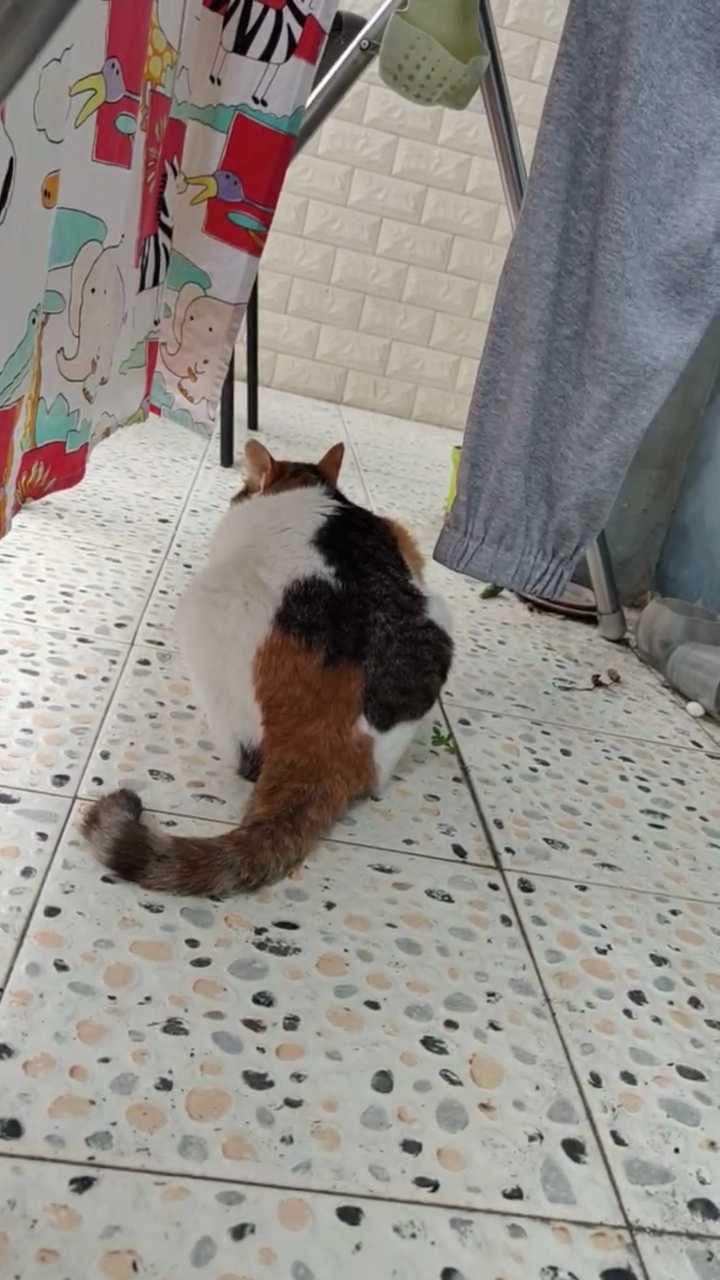猫: (102, 412, 464, 906)
